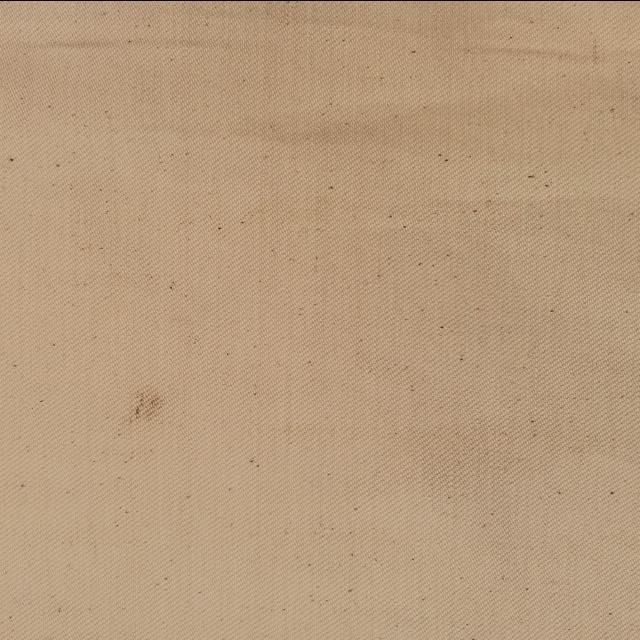taaaches: (115, 378, 178, 428)
